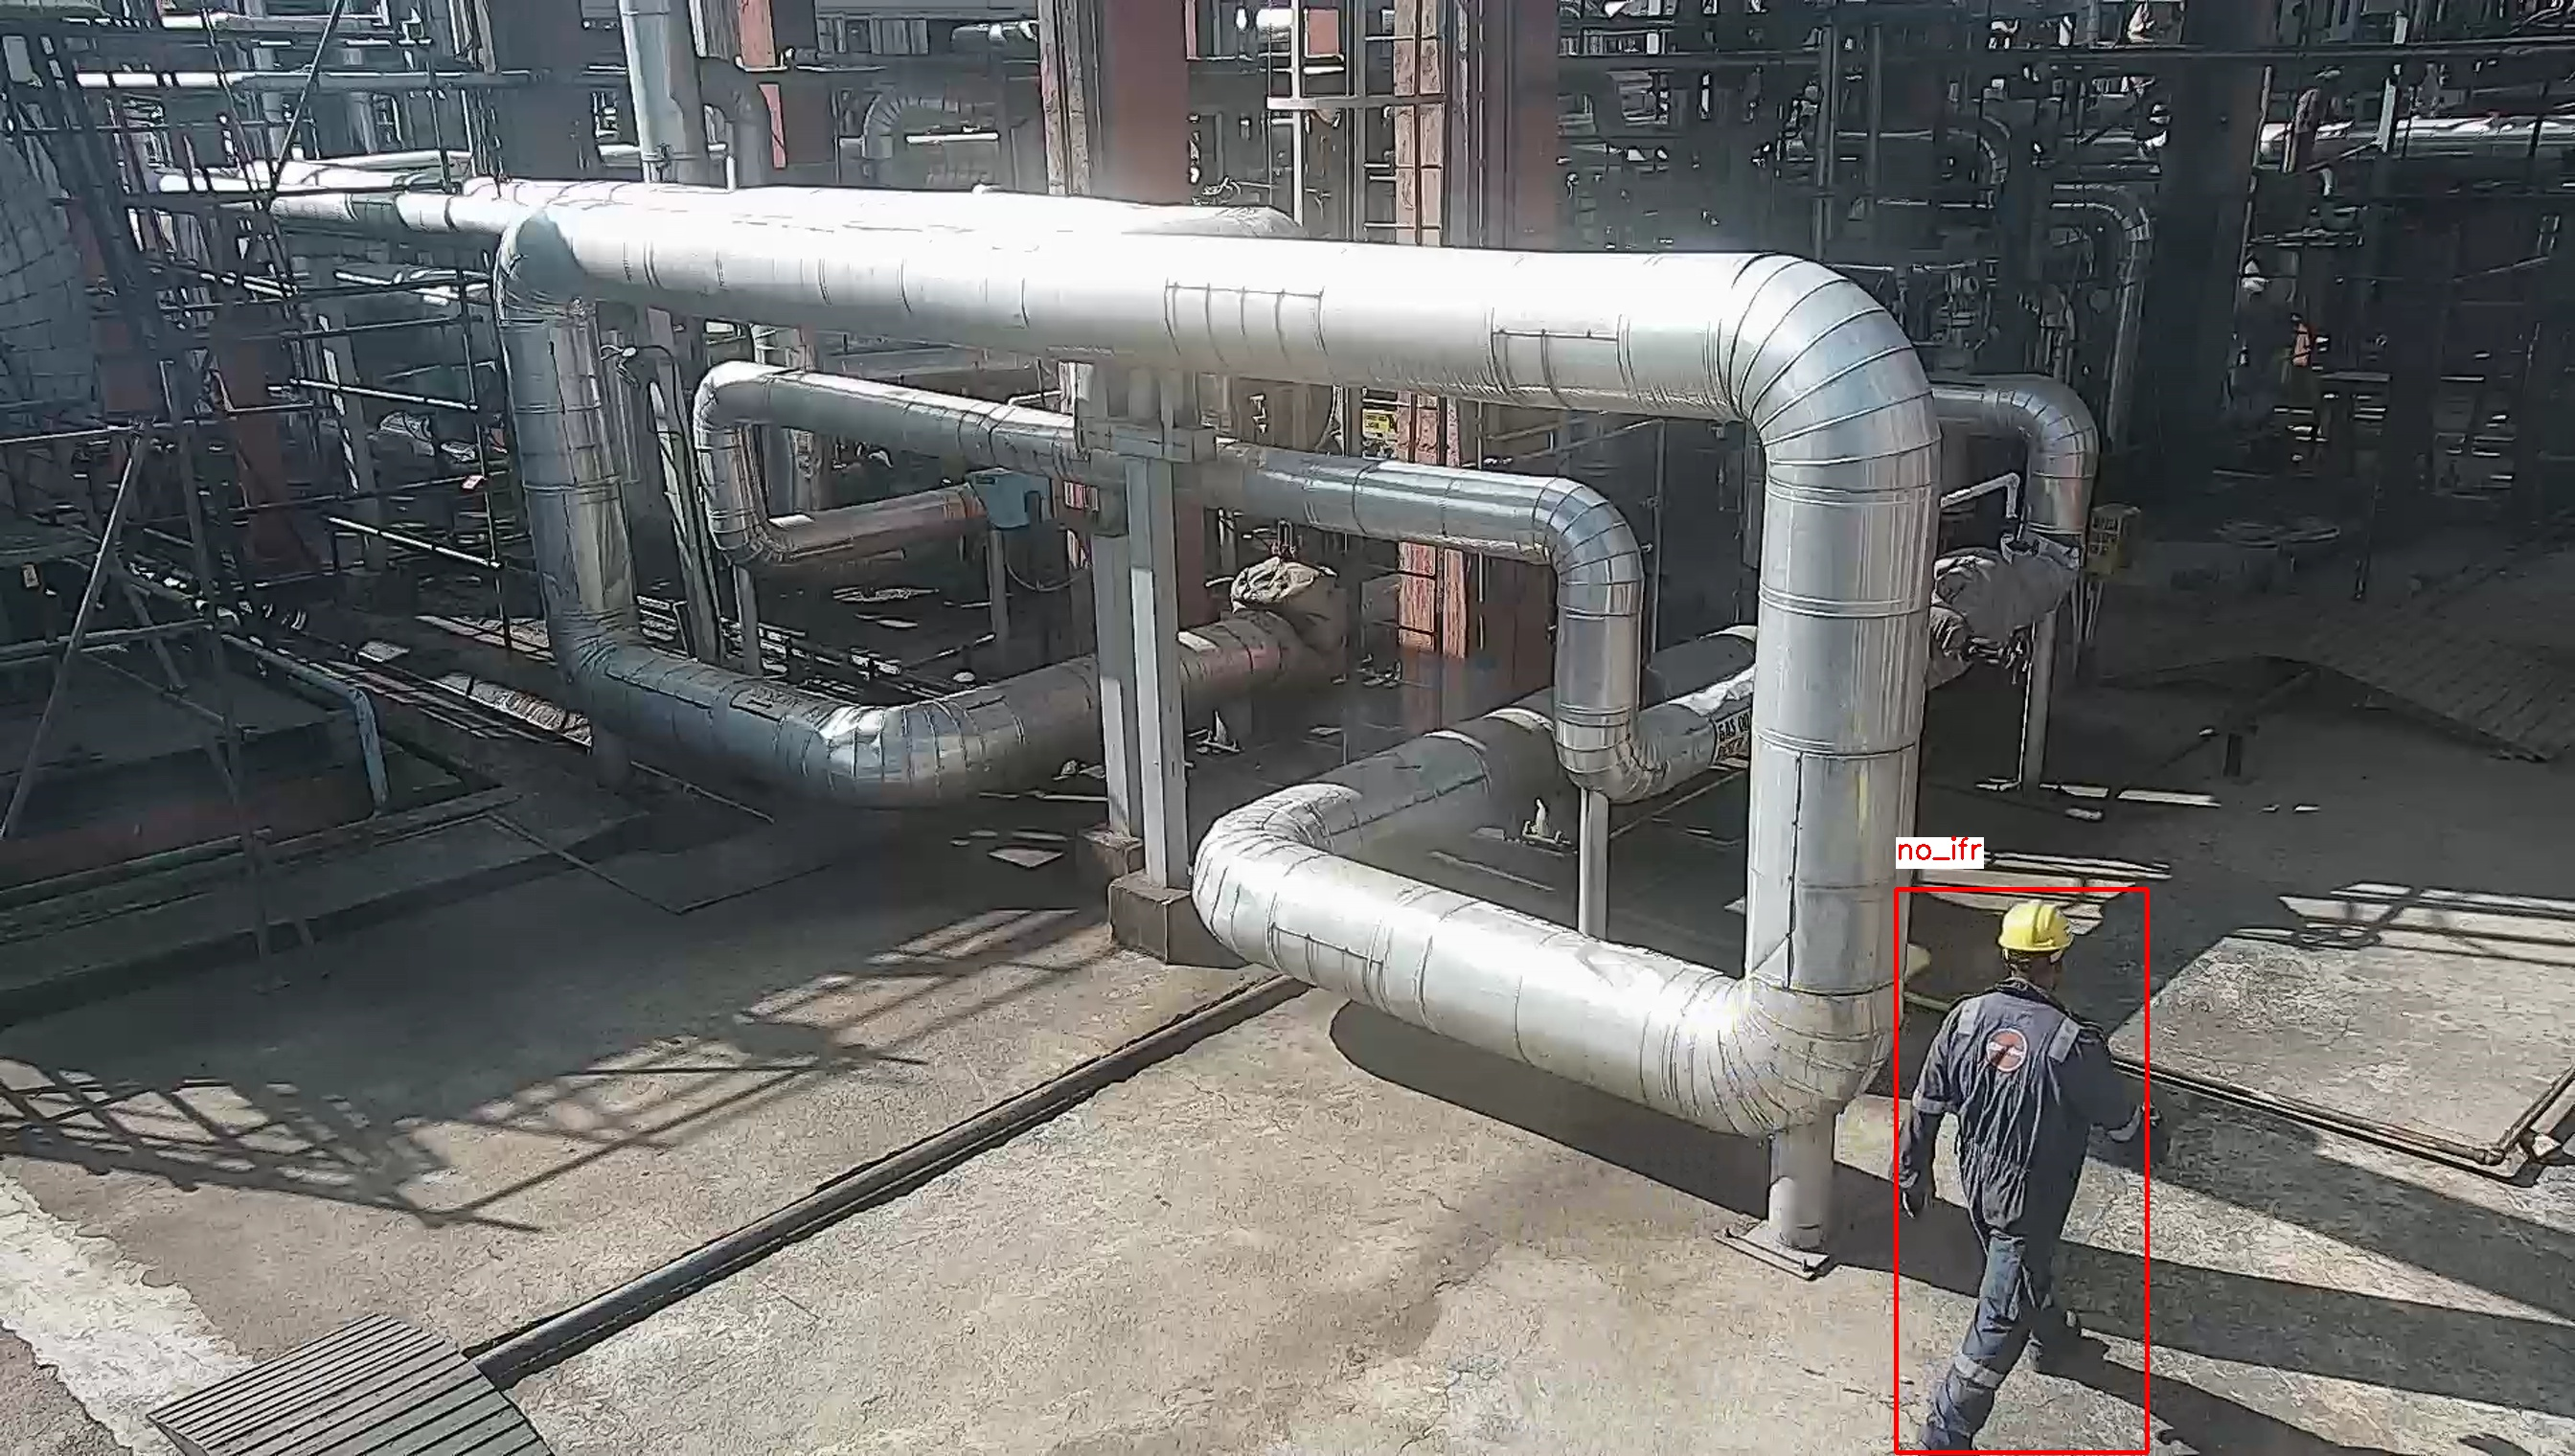Helmets: (1986, 897, 2085, 961)
IFR_Suit: (1905, 984, 2140, 1431)
